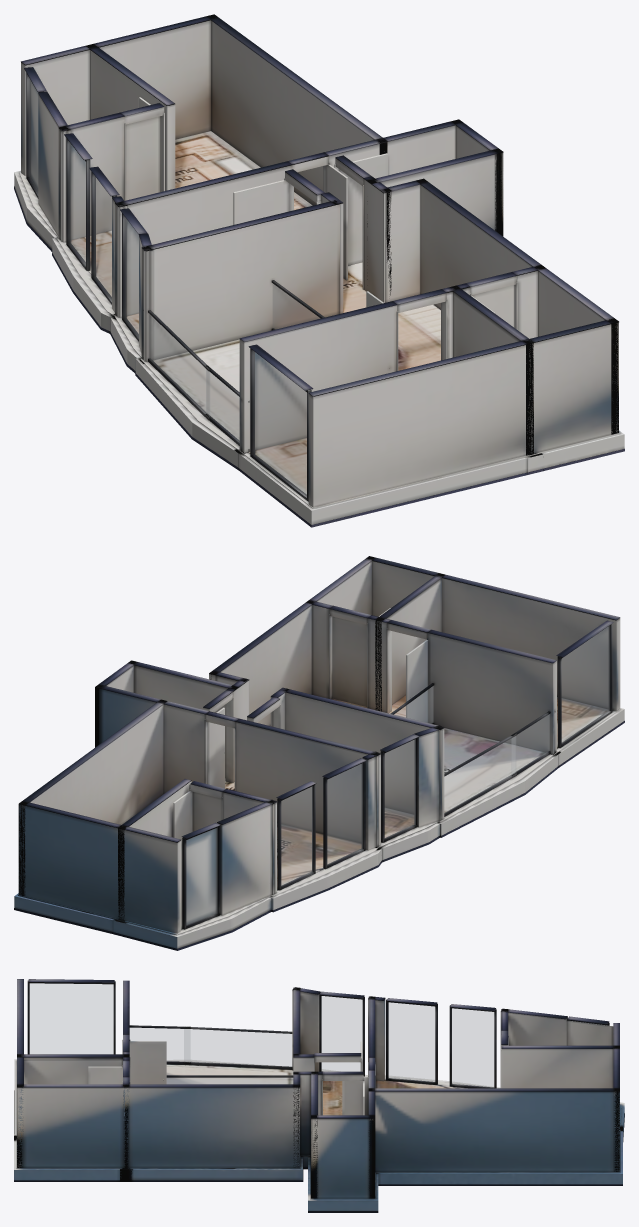
The picture shows the model from 3 angles, top to bottom: view 1: azimuth 30°, elevation 25°; view 2: azimuth 150°, elevation 25°; view 3: azimuth 270°, elevation 25°; orthographic projection. The views are drawn at different scales.
Parts seen in each view (by area): view 1: plan, glass4_m, railg4_m, glass2_m, glass1_m, railg3_m, glass3_m, railg2_m, glass0_m; view 2: plan, glass4_m, glass2_m, glass0_m, glass1_m, railg4_m, glass3_m, railg3_m, railg2_m; view 3: plan, glass4_m, railg4_m, glass2_m, glass1_m, glass3_m, railg3_m, railg2_m.
Boxes of the visible parts, left/top/right/bottom form: plan: left=14, top=14, right=624, bottom=527; glass4_m: left=253, top=351, right=306, bottom=495; railg4_m: left=149, top=314, right=209, bottom=416; glass2_m: left=94, top=176, right=111, bottom=299; glass1_m: left=69, top=142, right=85, bottom=264; railg3_m: left=206, top=369, right=239, bottom=441; glass3_m: left=125, top=218, right=138, bottom=336; railg2_m: left=273, top=284, right=319, bottom=329; glass0_m: left=29, top=78, right=37, bottom=191; plan: left=14, top=556, right=624, bottom=950; glass4_m: left=562, top=626, right=609, bottom=743; glass2_m: left=327, top=763, right=362, bottom=864; glass0_m: left=186, top=828, right=217, bottom=925; glass1_m: left=281, top=786, right=312, bottom=885; railg4_m: left=444, top=736, right=515, bottom=812; glass3_m: left=385, top=739, right=415, bottom=838; railg3_m: left=511, top=714, right=549, bottom=774; railg2_m: left=394, top=686, right=433, bottom=723; plan: left=14, top=979, right=624, bottom=1212; glass4_m: left=30, top=983, right=113, bottom=1053; railg4_m: left=184, top=1029, right=291, bottom=1066; glass2_m: left=388, top=1002, right=434, bottom=1082; glass1_m: left=452, top=1008, right=493, bottom=1087; glass3_m: left=321, top=996, right=362, bottom=1071; railg3_m: left=130, top=1028, right=190, bottom=1061; railg2_m: left=167, top=1078, right=292, bottom=1083.
Size of the model in its own units: 8.52 by 2.62 by 15.53.
2 materials, 1 textured.
